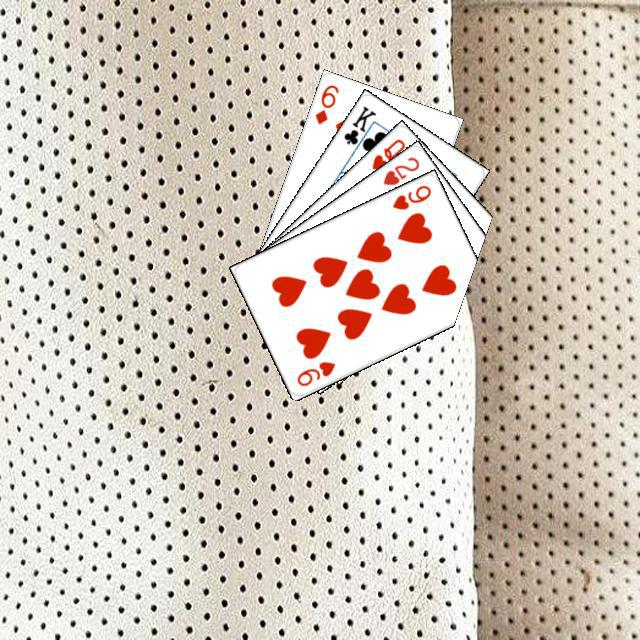2h: (378, 152, 421, 187)
6d: (310, 80, 341, 126)
9h: (387, 180, 433, 212), (292, 356, 337, 388)
Kc: (339, 101, 378, 155)
Qh: (367, 134, 407, 172)
